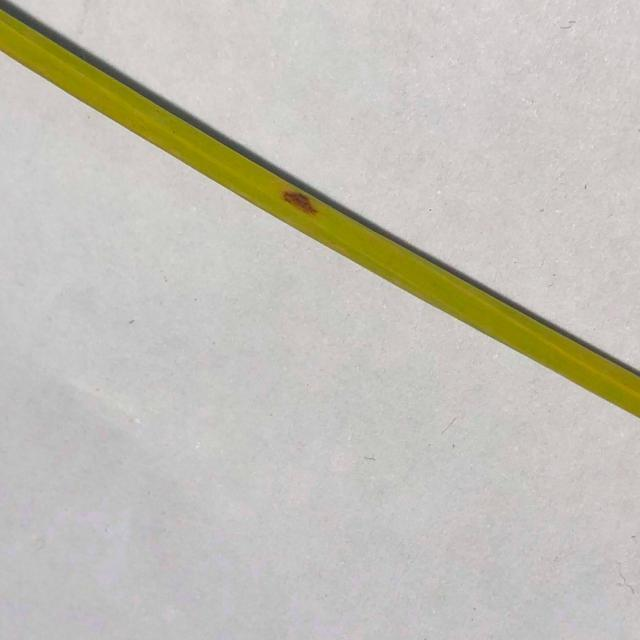Blast: (282, 187, 318, 219)
